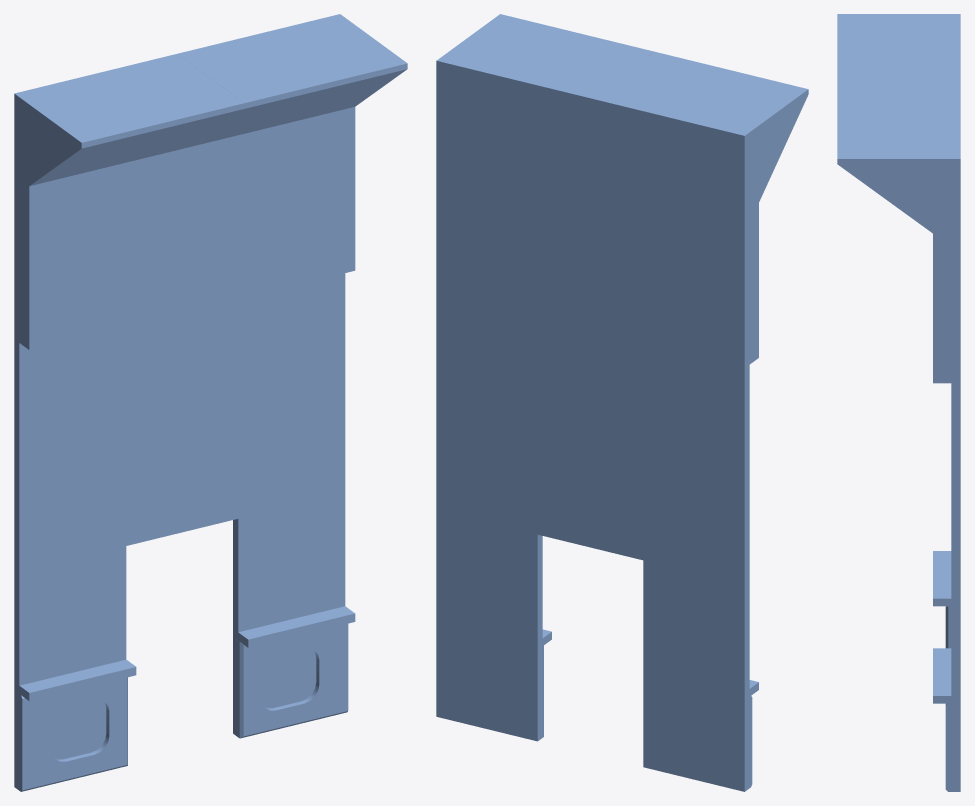
The model's file is BasementTallWallDoorwayB.fbx.
The picture shows the model from 3 angles, left to right: view 1: azimuth 30°, elevation 25°; view 2: azimuth 150°, elevation 25°; view 3: azimuth 270°, elevation 25°; orthographic projection. The views are drawn at different scales.
Visible parts, largest first — view 1: BasementTallWallDoorwayB; view 2: BasementTallWallDoorwayB; view 3: BasementTallWallDoorwayB.
Boxes of the visible parts, x1,y1,x2,y2 form: BasementTallWallDoorwayB: (14, 14, 407, 791); BasementTallWallDoorwayB: (436, 14, 808, 791); BasementTallWallDoorwayB: (837, 14, 960, 791).
Bounding box in the file's own units: 368 × 749 × 132.
